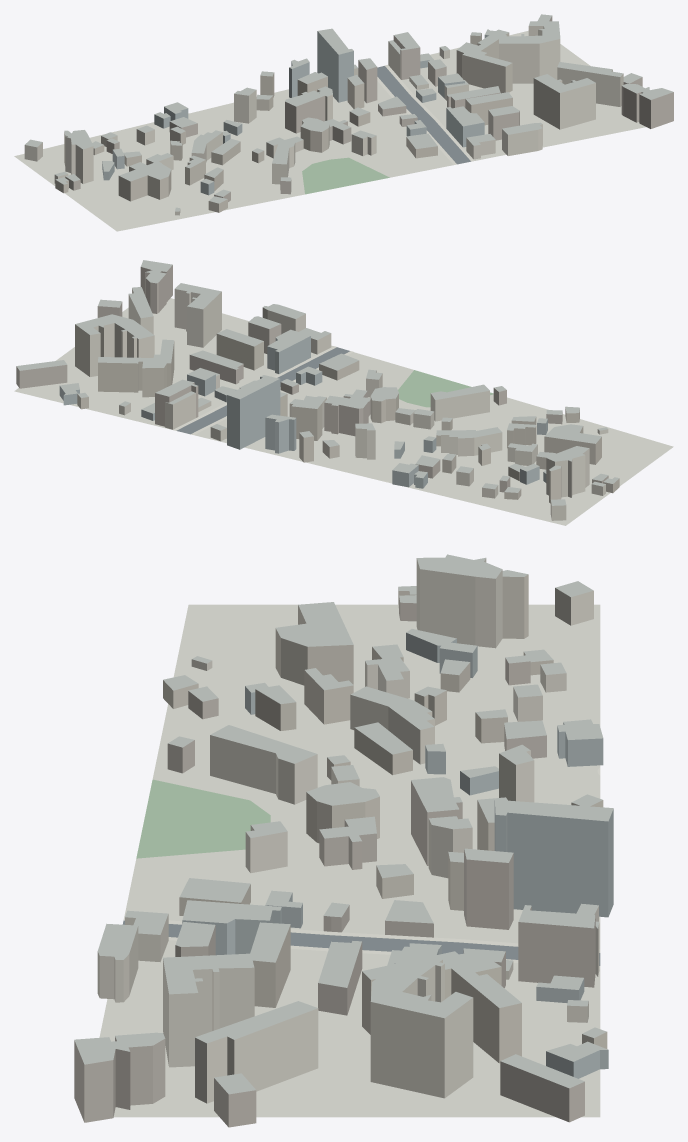
3 renders of one model, top to bottom at view 1: azimuth 30°, elevation 25°; view 2: azimuth 150°, elevation 25°; view 3: azimuth 270°, elevation 25°, orthographic. The views are drawn at different scales.
Parts seen in each view (by area): view 1: city; view 2: city; view 3: city.
Part boxes in pixels (x1,y1,x2,y2): city: (14,14,673,231); city: (14,260,673,525); city: (74,554,613,1127).
Bounding box in the file's own units: 512 × 43.7 × 223.
